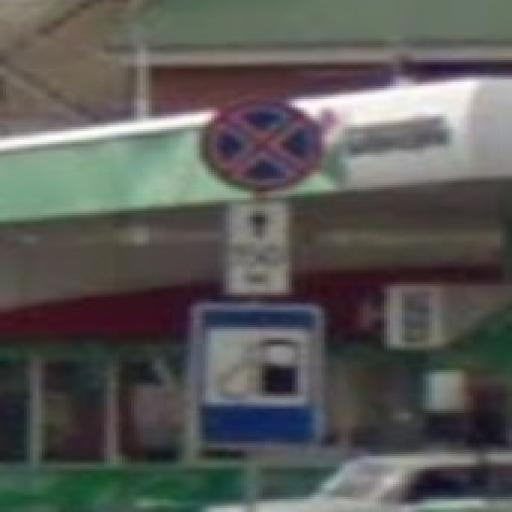traffic_sign: (192, 302, 329, 453), (201, 100, 326, 192)
